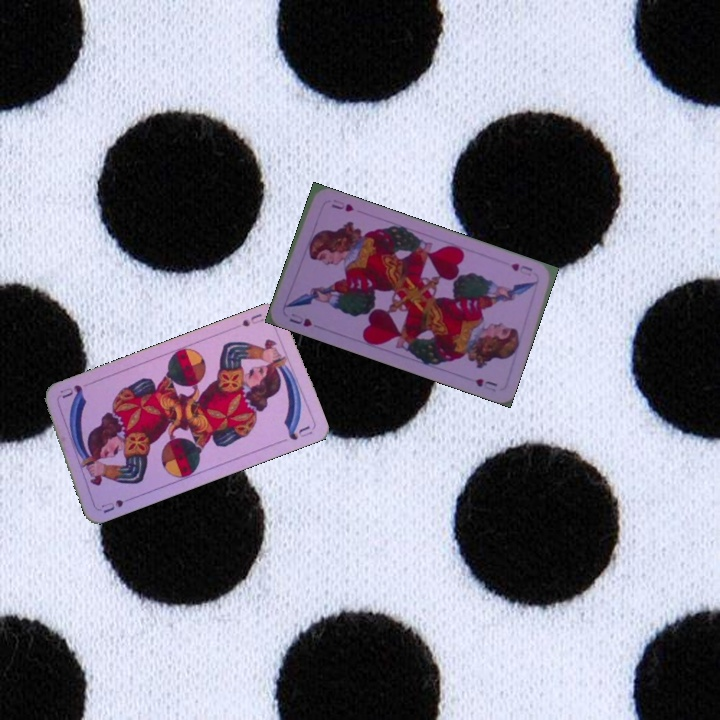HU: (285, 309, 314, 329), (507, 259, 535, 279)
SU: (97, 492, 137, 516), (238, 309, 267, 329)
